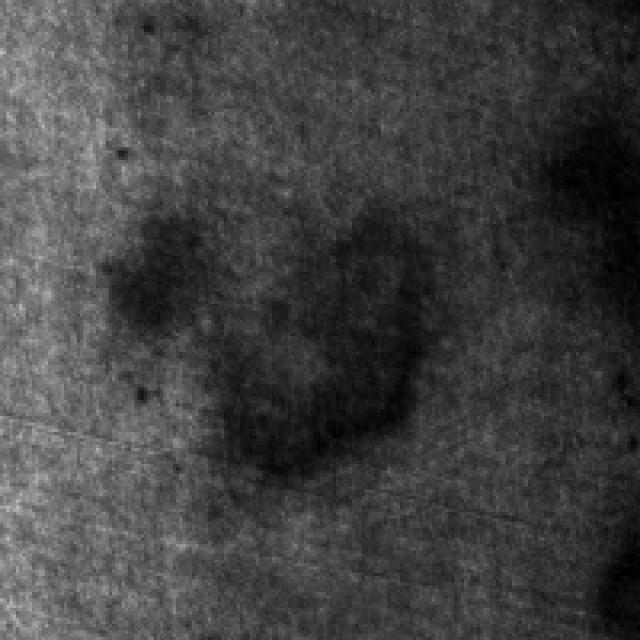patches: (227, 202, 435, 492), (109, 196, 234, 374), (534, 90, 637, 282)
